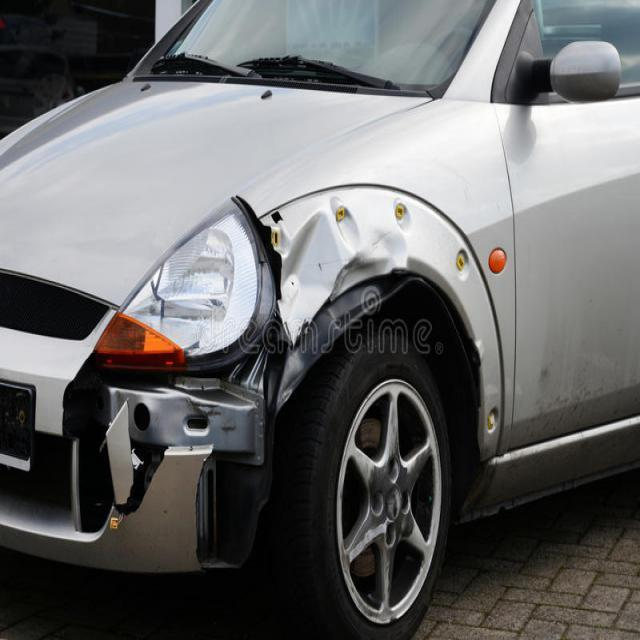fender-dent: (266, 143, 508, 453)
front-bumper-dent: (0, 324, 268, 600)
